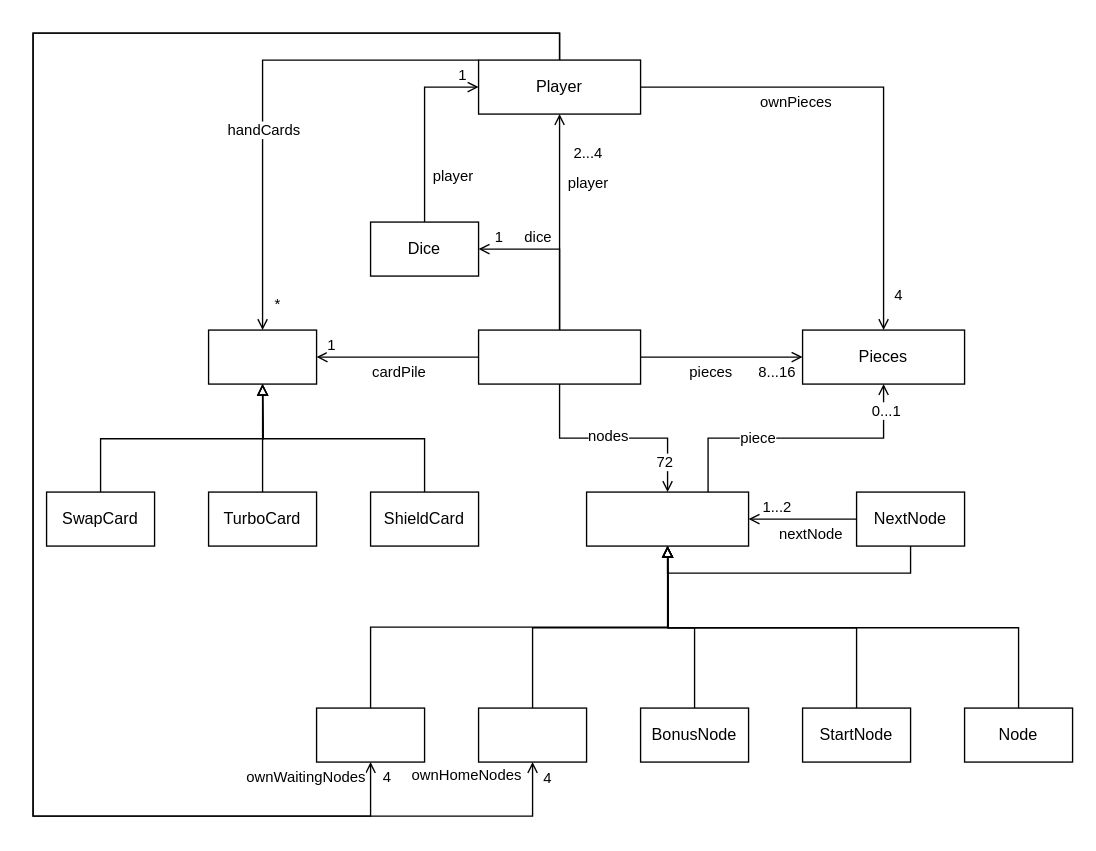
Image size: 1096x851. Some labels were removed from this diagram. Here are the shapes that lost their labels. From the top down, the centre of each, then its label:
(x=262, y=356): <<abstract>> Card
(x=559, y=356): Board
(x=667, y=518): <<abstract>> Nodes
(x=370, y=734): WaitingNode
(x=532, y=734): HomeNode
